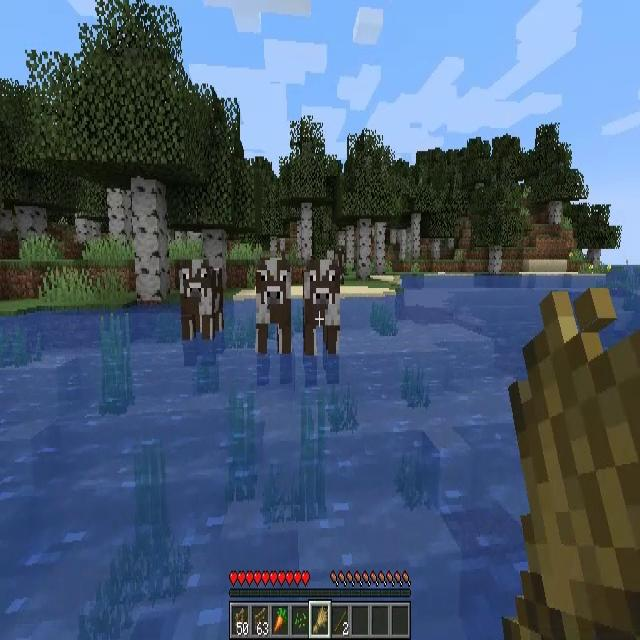cow: (300, 261, 341, 353), (256, 260, 292, 354), (180, 260, 223, 338)
